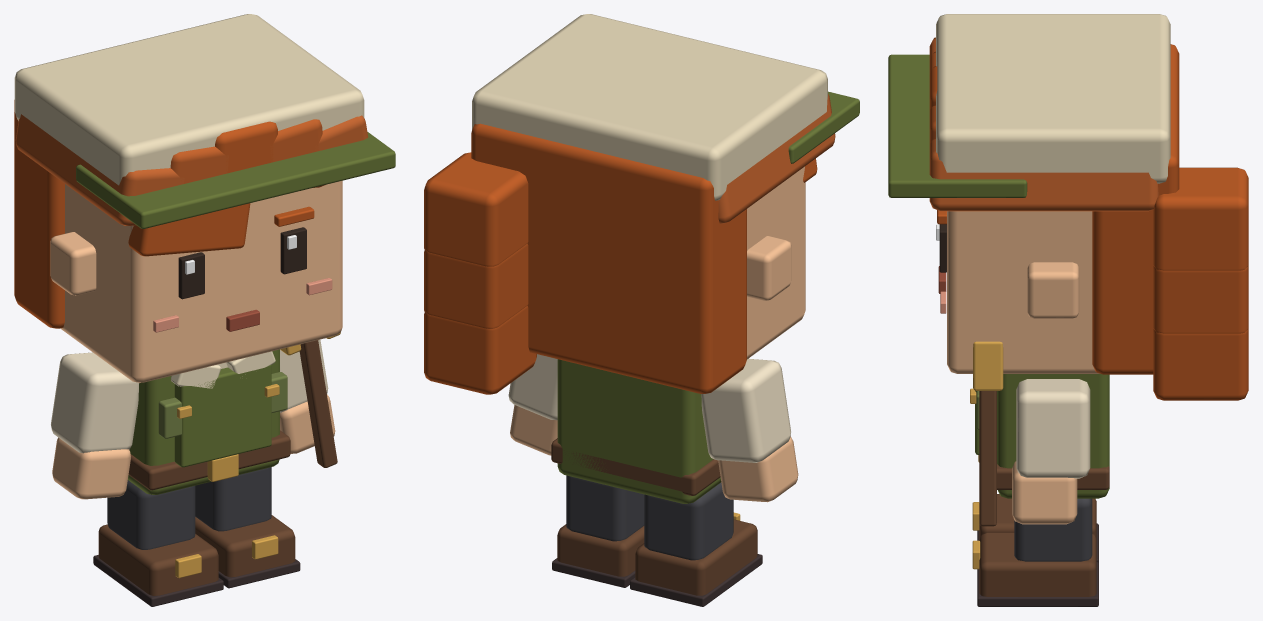
File: NPC02_link_engineer.glb
The picture shows the model from 3 angles, left to right: view 1: azimuth 30°, elevation 25°; view 2: azimuth 150°, elevation 25°; view 3: azimuth 270°, elevation 25°; orthographic projection. The views are drawn at different scales.
Visible parts, largest first — view 1: Cap, Face, CapVisor, OverallBib, HairBack, Sleeve, Boot, Trousers, HairLock, Fringe, Jacket, Trousers2 (+24 smaller); view 2: HairBack, Cap, Jacket, Ponytail, Sleeve, _MeshInstance3D_43, _MeshInstance3D_42, Face, Trousers, Boot, Trousers2, HairLock (+9 smaller); view 3: Cap, Face, HairBack, Ponytail, CapVisor, _MeshInstance3D_41, Sleeve2, _MeshInstance3D_43, _MeshInstance3D_42, Boot2, Jacket, Trousers2 (+7 smaller).
Part boxes in pixels (box(x1,y1,x2,y2)): Cap: box(14, 14, 364, 185); Face: box(60, 180, 342, 382); CapVisor: box(76, 132, 395, 228); OverallBib: box(174, 365, 271, 467); HairBack: box(14, 100, 64, 328); Sleeve: box(51, 352, 139, 453); Boot: box(98, 524, 218, 595); Trousers: box(107, 480, 195, 549); HairLock: box(15, 114, 184, 225); Fringe: box(128, 203, 250, 256); Jacket: box(128, 349, 279, 494); Trousers2: box(195, 467, 271, 531); HairBack: box(471, 123, 746, 393); Cap: box(472, 14, 827, 200); Jacket: box(557, 359, 721, 503); Ponytail: box(424, 152, 528, 266); Sleeve: box(701, 358, 790, 462); _MeshInstance3D_43: box(424, 306, 536, 394); _MeshInstance3D_42: box(424, 243, 528, 328); Face: box(747, 166, 805, 359); Trousers: box(644, 482, 733, 560); Boot: box(635, 519, 757, 595); Trousers2: box(566, 475, 644, 541); HairLock: box(718, 94, 835, 223); Cap: box(936, 14, 1170, 183); Face: box(947, 211, 1100, 373); HairBack: box(1092, 44, 1179, 374); Ponytail: box(1153, 167, 1248, 270); CapVisor: box(888, 54, 1027, 197); _MeshInstance3D_41: box(929, 139, 1158, 211); Sleeve2: box(1016, 379, 1090, 478); _MeshInstance3D_43: box(1153, 328, 1248, 400); _MeshInstance3D_42: box(1153, 265, 1248, 333); Boot2: box(979, 532, 1096, 596); Jacket: box(997, 374, 1109, 498); Trousers2: box(1014, 498, 1092, 561).
Size of the model in its own units: 0.7158 by 1.27 by 0.83.
